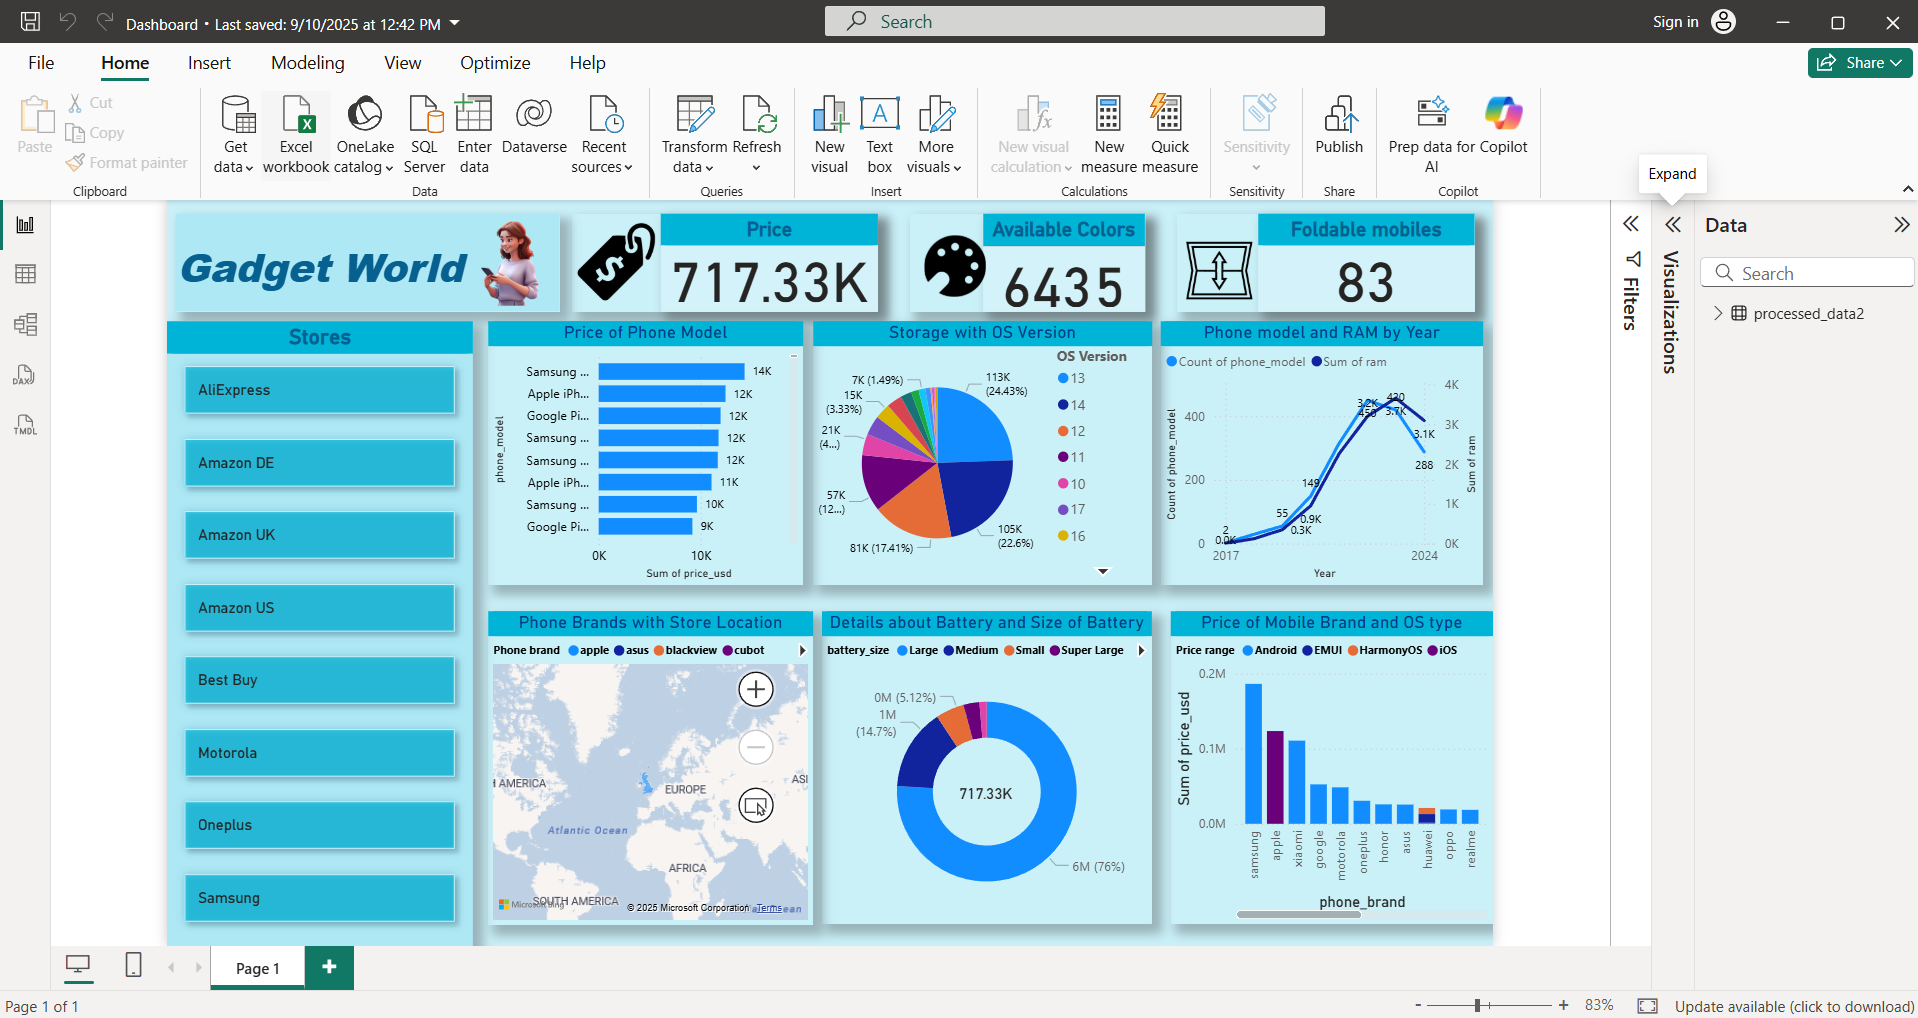

Layout of this report page (visuals, bound fields, positions):
{"tool":"powerbi","page":{"name":"Page 1","canvas":[1280,720],"ordinal":0},"visuals":[{"type":"shape","box":[8.4,13.3,370.4,94.1],"z":0},{"type":"textbox","box":[0,33.8,295.6,73.6],"z":1000},{"type":"image","box":[295.6,13.3,71.2,94.1],"z":2000},{"type":"card","title":"Price","fields":{"Values":["Sum(processed_data2.price_usd)"]},"box":[476.5,13.3,209.9,94.1],"z":3000},{"type":"card","title":"Available Colors","fields":{"Values":["Sum(processed_data2.colors_available)"]},"box":[787.8,13.3,155.6,94.1],"z":4000},{"type":"card","title":"Foldable mobiles","fields":{"Values":["Sum(processed_data2.foldable)"]},"box":[1053.2,13.3,208.7,94.1],"z":5000},{"type":"image","box":[390.9,2.4,85.7,114.6],"z":6000},{"type":"shape","box":[390.9,13.3,295.6,94.1],"z":7000},{"type":"shape","box":[716.6,13.3,228,94.1],"z":8000},{"type":"image","box":[726.3,25.3,68.8,76],"z":9000},{"type":"shape","box":[974.8,13.3,287.1,94.1],"z":10000},{"type":"image","box":[968.8,25.3,94.1,85.7],"z":11000},{"type":"advancedSlicerVisual","title":"Stores","fields":{"Values":["processed_data2.store"]},"box":[0,117,295.6,603.2],"z":12000},{"type":"barChart","title":"Price of Phone Model","fields":{"Y":["Sum(processed_data2.price_usd)"],"Category":["processed_data2.phone_model"]},"box":[310.1,117,304,254.6],"z":13000},{"type":"pieChart","title":"Storage with OS Version","fields":{"Y":["Sum(processed_data2.storage)"],"Category":["processed_data2.os_version"]},"box":[623.7,117,326.9,254.6],"z":14000},{"type":"filledMap","title":"Phone Brands with Store Location","fields":{"Category":["processed_data2.store"],"Series":["processed_data2.phone_brand"]},"box":[310.1,396.9,313.7,302.8],"z":15000},{"type":"lineChart","title":"Phone model and RAM by Year","fields":{"Category":["processed_data2.launch_date.Variation.Date Hierarchy.Year","processed_data2.launch_date.Variation.Date Hierarchy.Quarter","processed_data2.launch_date.Variation.Date Hierarchy.Month","processed_data2.launch_date.Variation.Date Hierarchy.Day"],"Y":["CountNonNull(processed_data2.phone_model)"],"Y2":["Sum(processed_data2.ram)"]},"box":[959.1,117,311.3,254.6],"z":16000},{"type":"donutChart","title":"Details about Battery and  Size of Battery","fields":{"Category":["processed_data2.battery_size"],"Y":["Sum(processed_data2.battery)"]},"box":[632.2,396.9,318.5,301.6],"z":17000},{"type":"columnChart","title":"Price of Mobile Brand and OS type","fields":{"Category":["processed_data2.phone_brand"],"Y":["Sum(processed_data2.price_usd)"],"Series":["processed_data2.os_type"]},"box":[968.8,396.9,311.3,301.6],"z":18000},{"type":"card","fields":{"Values":["Sum(processed_data2.price_usd)"]},"box":[749.2,547.7,82,53.1],"z":19000}]}

Visuals, with their boxes on the page's 1280x720 design canvas (x1, y1, x2, y2). These are canvas units, not pixel positions in the 1918x1018 screenshot, which may show the page scaled, cropped or inside an application window:
shape: <bbox>8, 13, 379, 107</bbox>
textbox: <bbox>0, 34, 296, 107</bbox>
image: <bbox>296, 13, 367, 107</bbox>
"Price" card: <bbox>476, 13, 686, 107</bbox>
"Available Colors" card: <bbox>788, 13, 943, 107</bbox>
"Foldable mobiles" card: <bbox>1053, 13, 1262, 107</bbox>
image: <bbox>391, 2, 477, 117</bbox>
shape: <bbox>391, 13, 686, 107</bbox>
shape: <bbox>717, 13, 945, 107</bbox>
image: <bbox>726, 25, 795, 101</bbox>
shape: <bbox>975, 13, 1262, 107</bbox>
image: <bbox>969, 25, 1063, 111</bbox>
"Stores" advancedSlicerVisual: <bbox>0, 117, 296, 720</bbox>
"Price of Phone Model" barChart: <bbox>310, 117, 614, 372</bbox>
"Storage with OS Version" pieChart: <bbox>624, 117, 951, 372</bbox>
"Phone Brands with Store Location" filledMap: <bbox>310, 397, 624, 700</bbox>
"Phone model and RAM by Year" lineChart: <bbox>959, 117, 1270, 372</bbox>
"Details about Battery and  Size of Battery" donutChart: <bbox>632, 397, 951, 698</bbox>
"Price of Mobile Brand and OS type" columnChart: <bbox>969, 397, 1280, 698</bbox>
card - Sum(processed_data2.price_usd): <bbox>749, 548, 831, 601</bbox>
